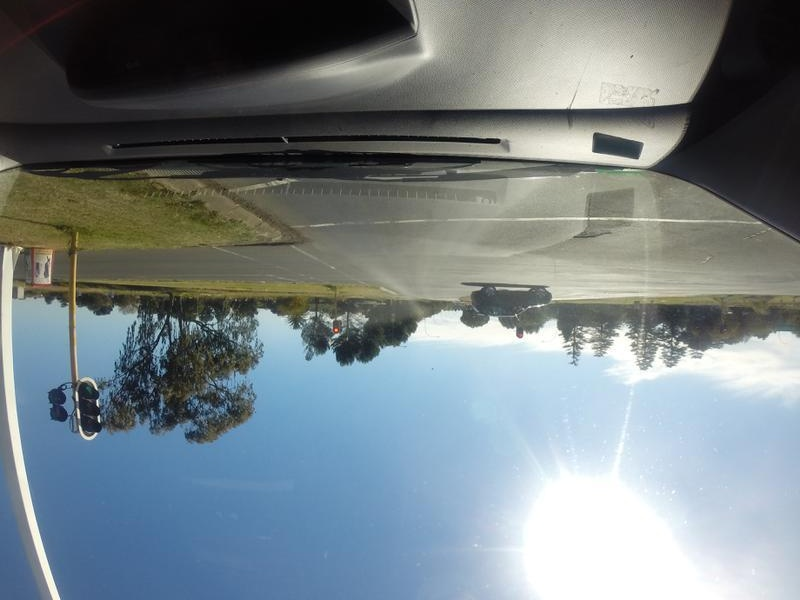pothole: (569, 223, 619, 245)
